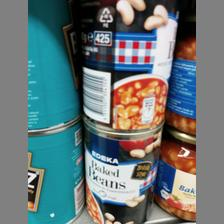Bohnen: (82, 0, 170, 128), (78, 119, 158, 223)
